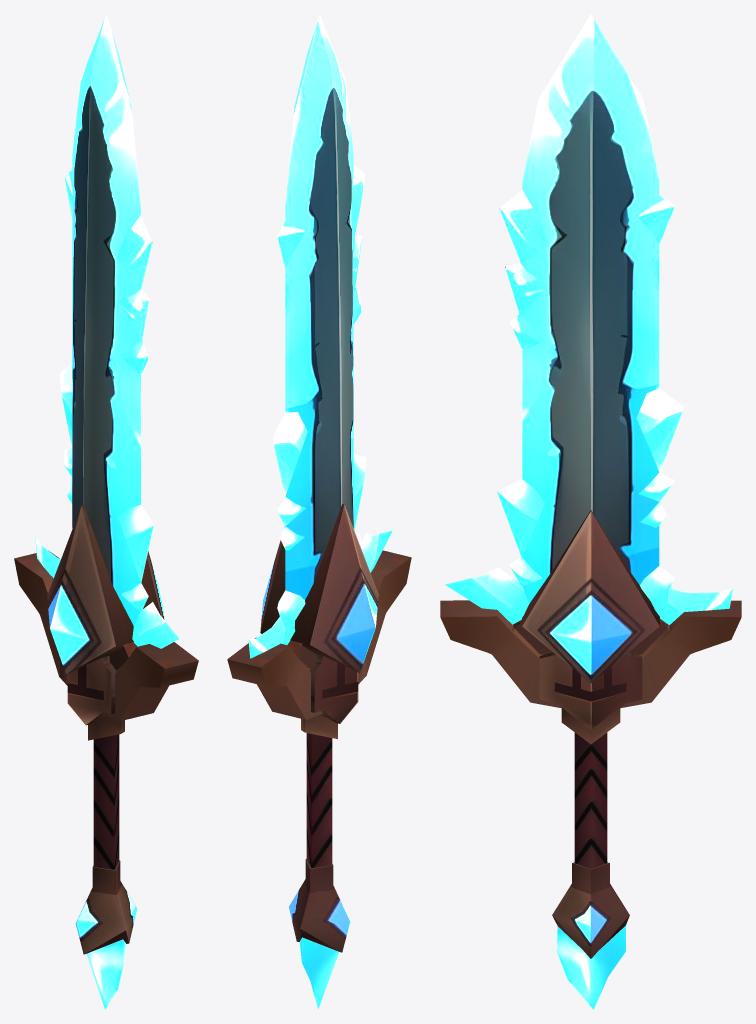
File: w_energy.glb
3 views of the same model, side by side, from view 1: azimuth 30°, elevation 25°; view 2: azimuth 150°, elevation 25°; view 3: azimuth 270°, elevation 25° (orthographic).
Parts seen in each view (by area): view 1: mesh_1_0; view 2: mesh_1_0; view 3: mesh_1_0.
Boxes of the visible parts, left/top/right/bottom form: mesh_1_0: left=14, top=14, right=198, bottom=1009; mesh_1_0: left=227, top=14, right=411, bottom=1009; mesh_1_0: left=440, top=14, right=741, bottom=1009.
Size of the model in its own units: 23.1 by 195 by 53.38.
1 material, 1 textured.
